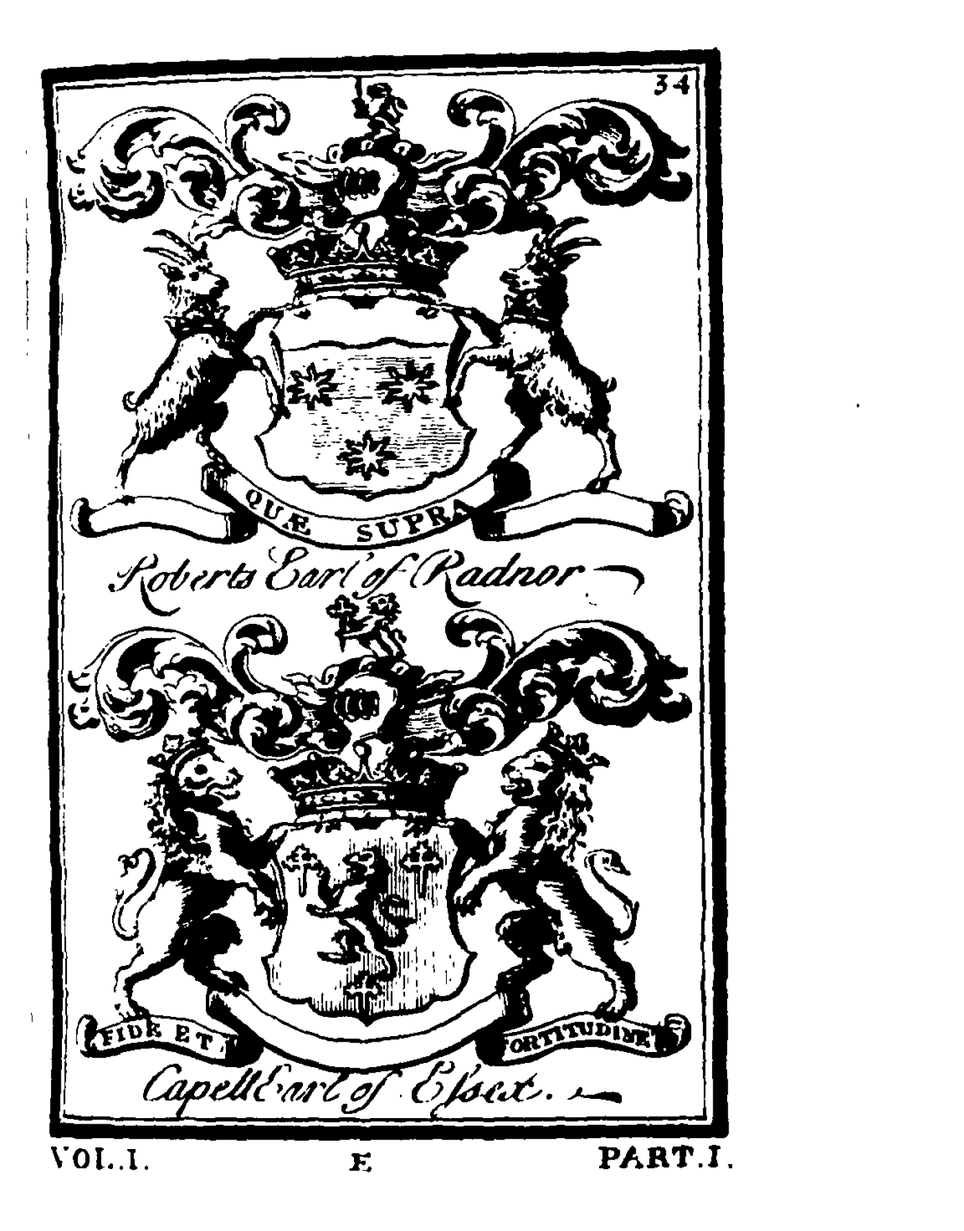coat_of_arms: (61, 85, 704, 600), (61, 602, 714, 1108)
